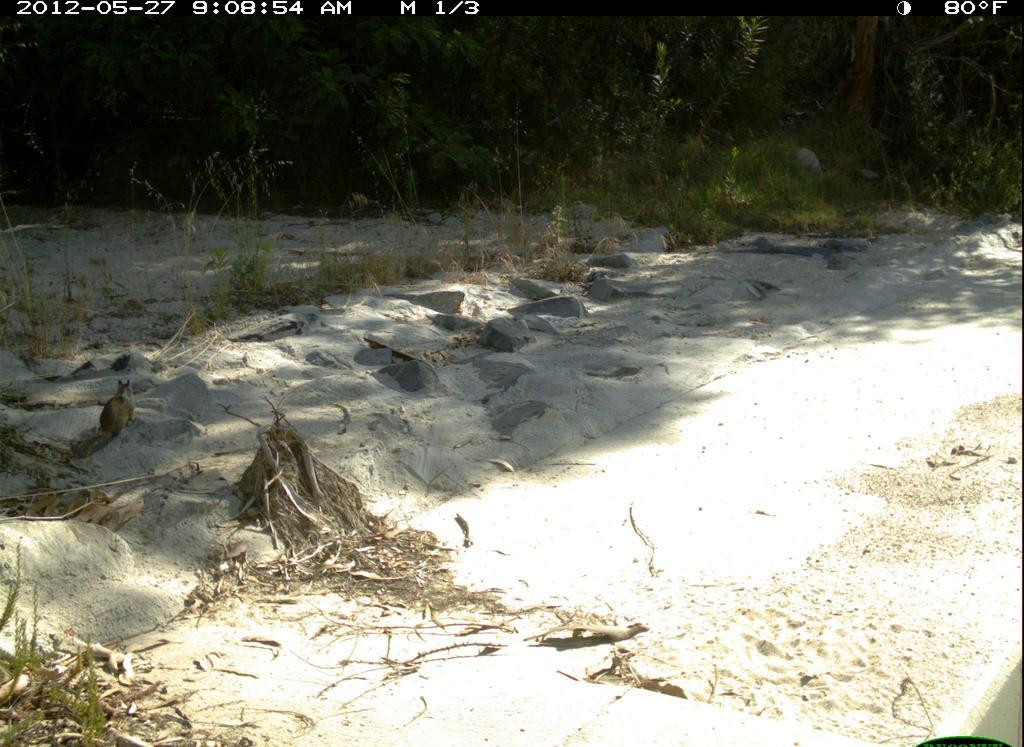squirrel: (77, 368, 146, 452)
